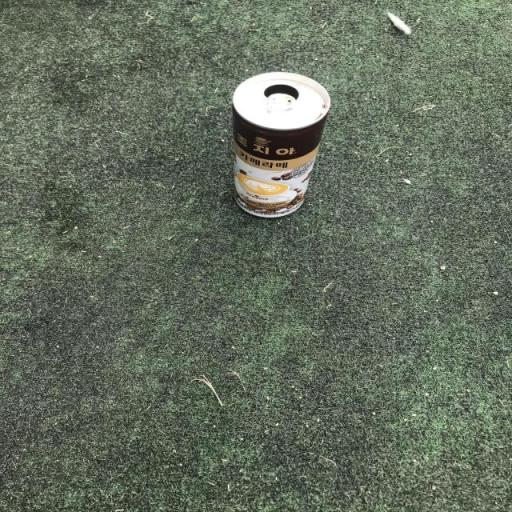metal: (200, 60, 446, 310)
